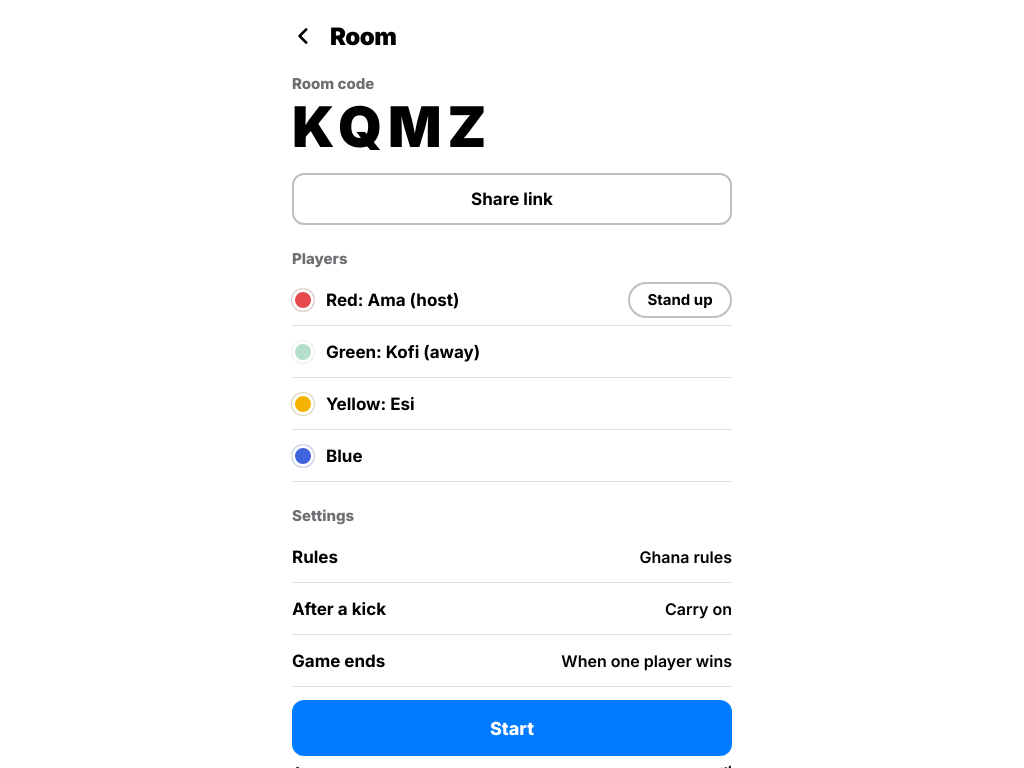
Test: Lobby › leaves players who are away out of the count to start with
Click the button "Start": [512, 728] box [292,700,732,756]
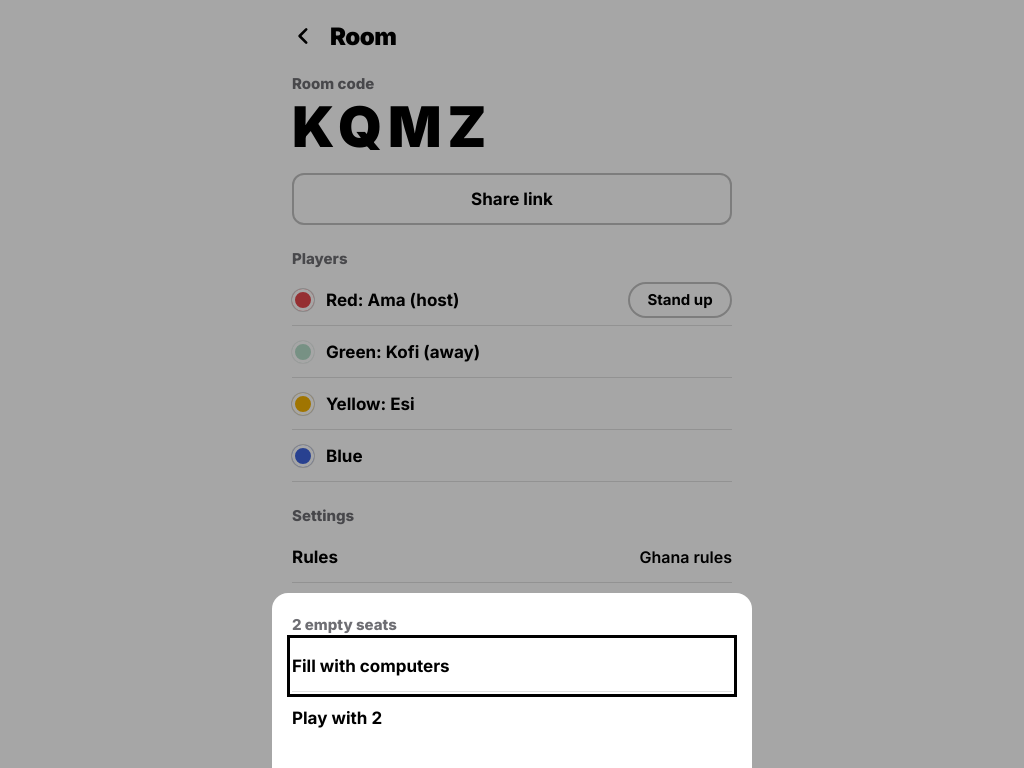
Now the button "Play with 2" is shown, box [292,692,732,744]
